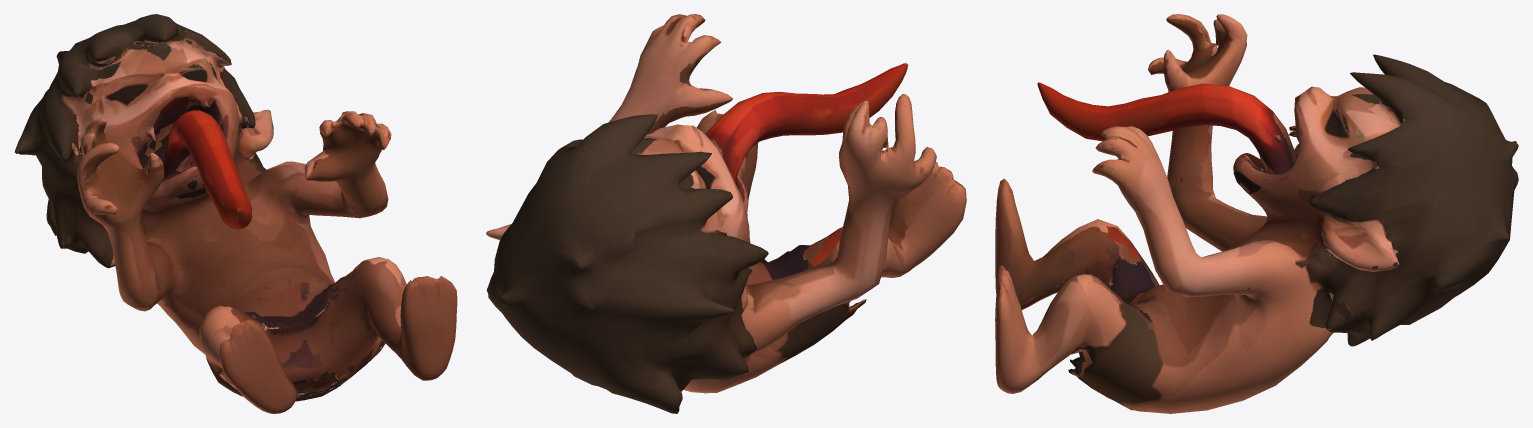
The model's file is Akaname.glb.
3 views of the same model, side by side, from view 1: azimuth 30°, elevation 25°; view 2: azimuth 150°, elevation 25°; view 3: azimuth 270°, elevation 25° (orthographic). The views are drawn at different scales.
Visible parts, largest first — view 1: Retopo_akaname; view 2: Retopo_akaname; view 3: Retopo_akaname.
Boxes of the visible parts, box(x1,y1,x2,y2) form: Retopo_akaname: box(14, 14, 457, 413); Retopo_akaname: box(486, 14, 966, 413); Retopo_akaname: box(995, 14, 1518, 413).
Bounding box in the file's own units: 1.36 × 1.3 × 1.94.
1 material, 1 textured.
